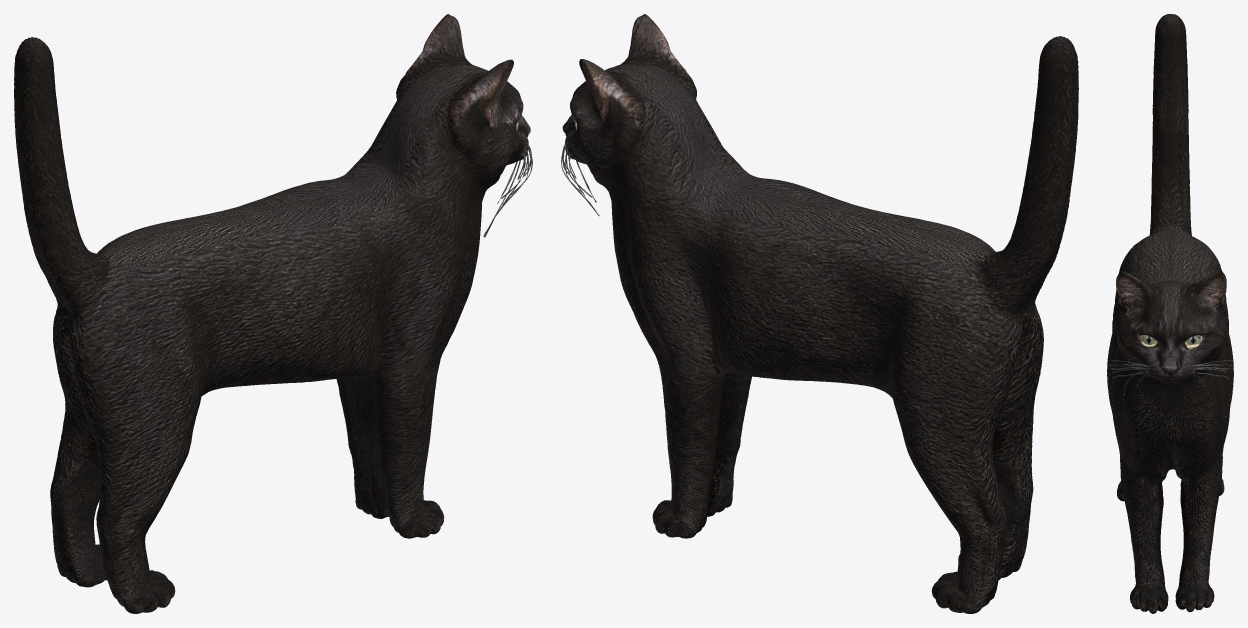
Rendered from RURUNEKO.glb.
The picture shows the model from 3 angles, left to right: view 1: azimuth 30°, elevation 25°; view 2: azimuth 150°, elevation 25°; view 3: azimuth 270°, elevation 25°; orthographic projection. The views are drawn at different scales.
Visible parts, largest first — view 1: tripo_node_effda70c-30be-43cc-a804-84d27fdd0b70; view 2: tripo_node_effda70c-30be-43cc-a804-84d27fdd0b70; view 3: tripo_node_effda70c-30be-43cc-a804-84d27fdd0b70.
Boxes of the visible parts, box(x1,y1,x2,y2) form: tripo_node_effda70c-30be-43cc-a804-84d27fdd0b70: box(14, 14, 532, 613); tripo_node_effda70c-30be-43cc-a804-84d27fdd0b70: box(561, 14, 1078, 613); tripo_node_effda70c-30be-43cc-a804-84d27fdd0b70: box(1107, 14, 1233, 613).
Bounding box in the file's own units: 0.9331 × 0.9997 × 0.2554.
Materials: 1 (1 with a texture image).
